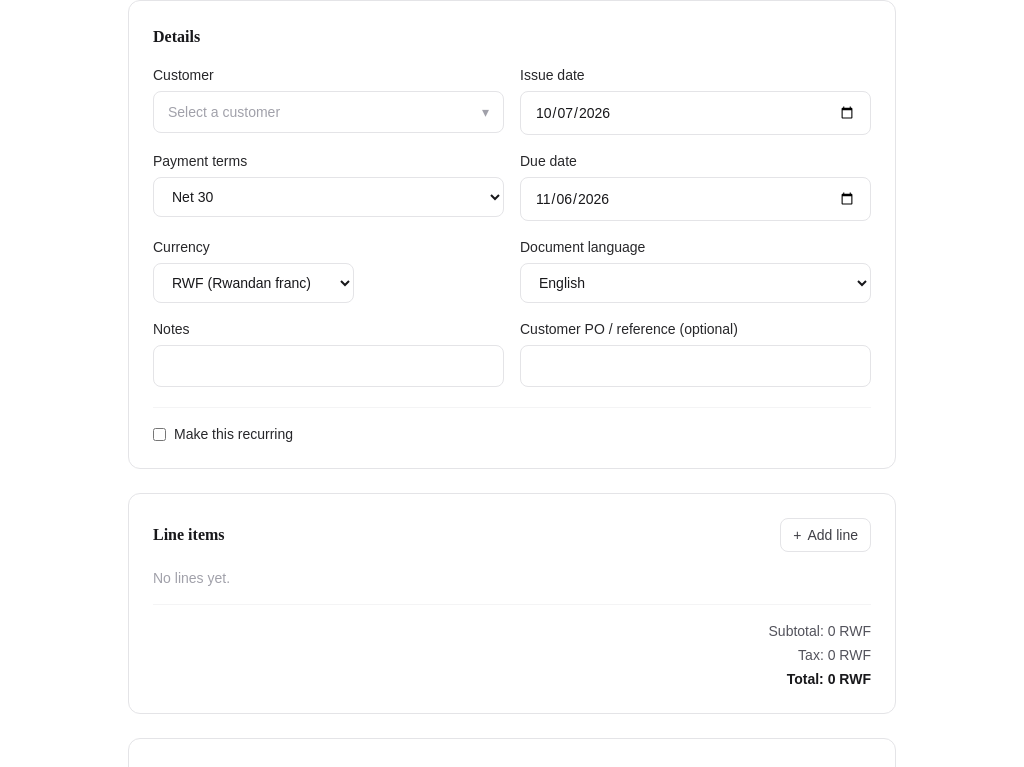
Test case: DocumentForm › prefills the line's tax rate from the selected catalog item
Click the button "+ Add line". click: {"x": 826, "y": 535}
box: [780, 518, 871, 552]
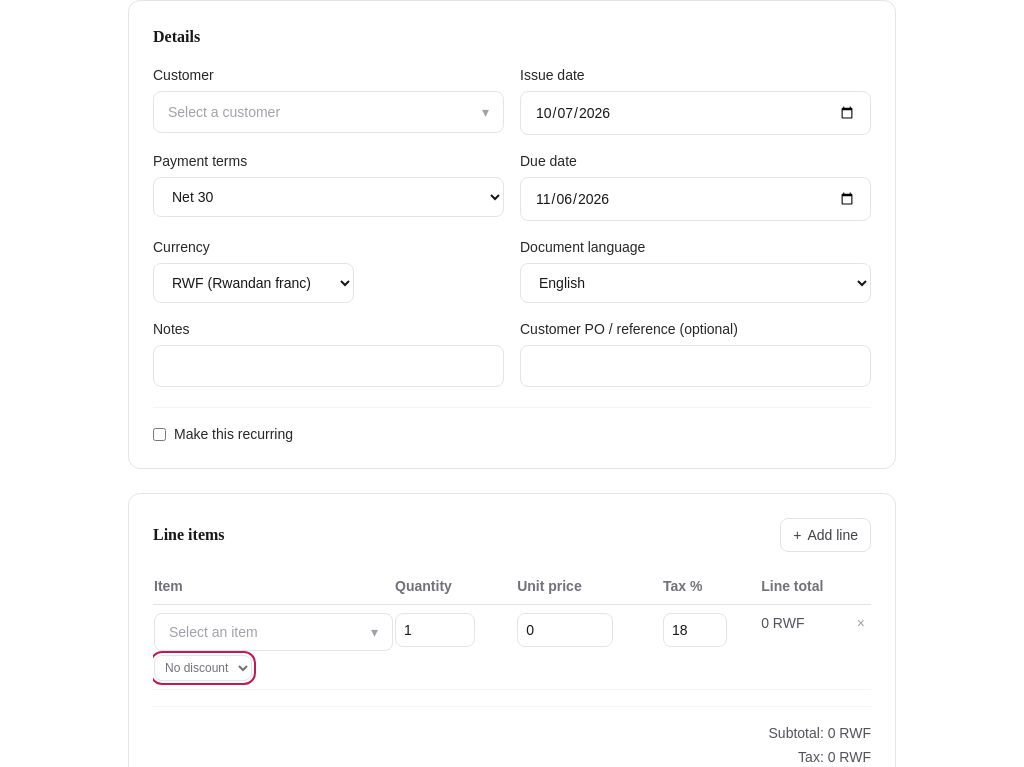
Result: the number field named "Tax rate" holds "18" at [663, 613, 727, 647]
Click the button "Select an item ▾". click: {"x": 274, "y": 632}
box: [154, 613, 393, 651]
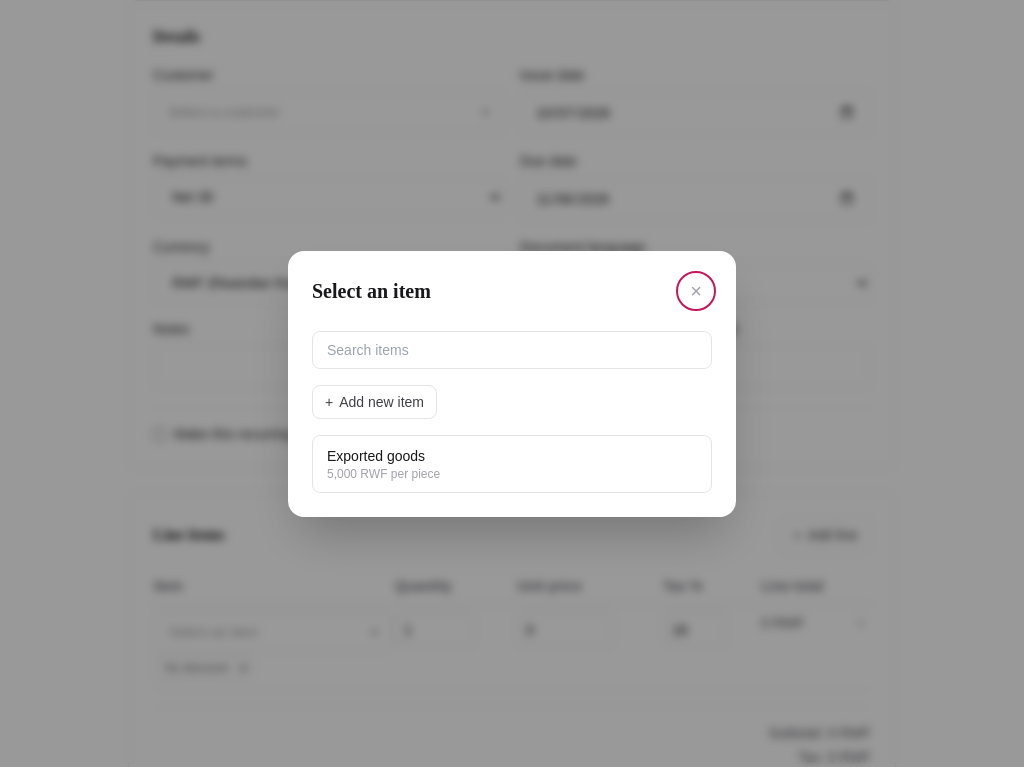
Click the text "Exported goods". click: {"x": 376, "y": 456}
box: [327, 446, 425, 466]
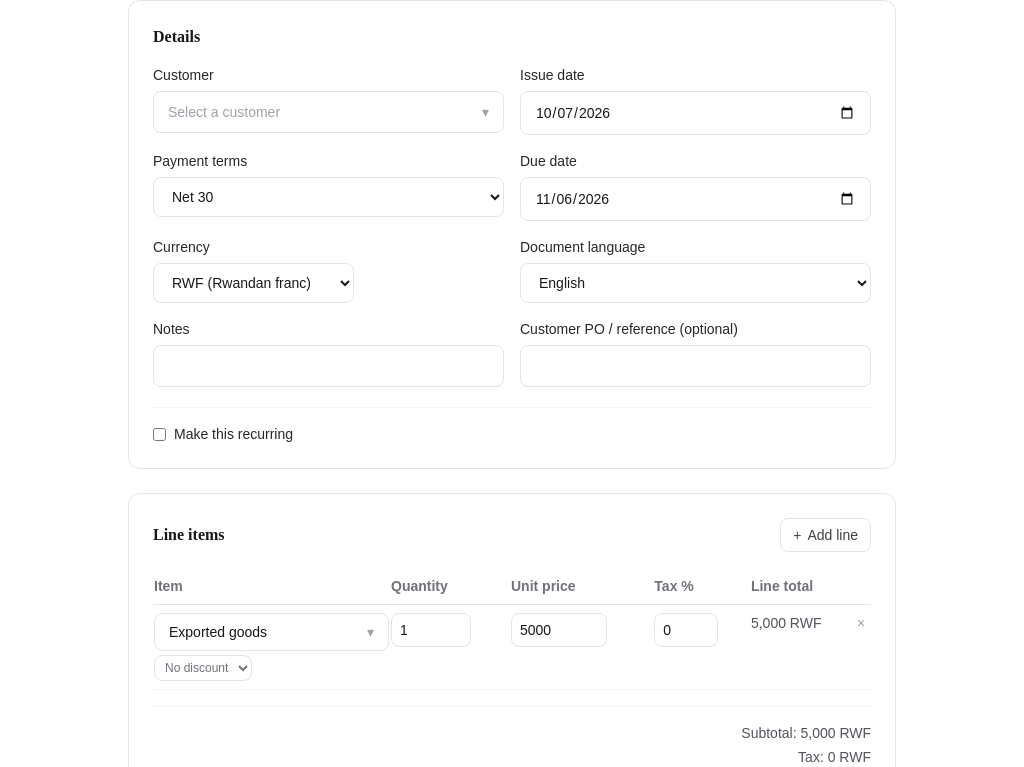
Result: the number field named "Tax rate" holds "0" at [654, 613, 718, 647]
